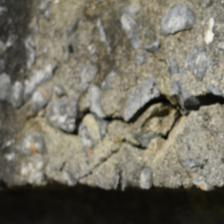Crack: (64, 84, 221, 141)
